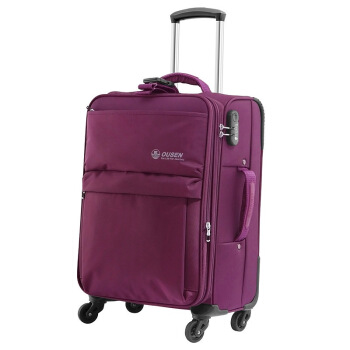luggage: (75, 8, 267, 343)
